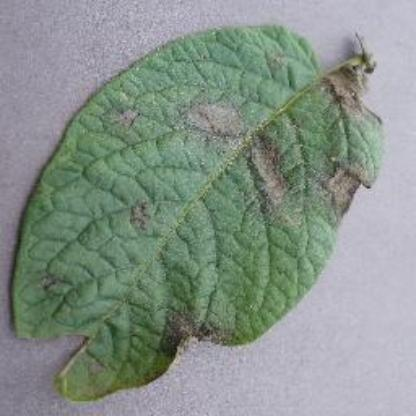Late-Blight: (12, 20, 384, 400)
